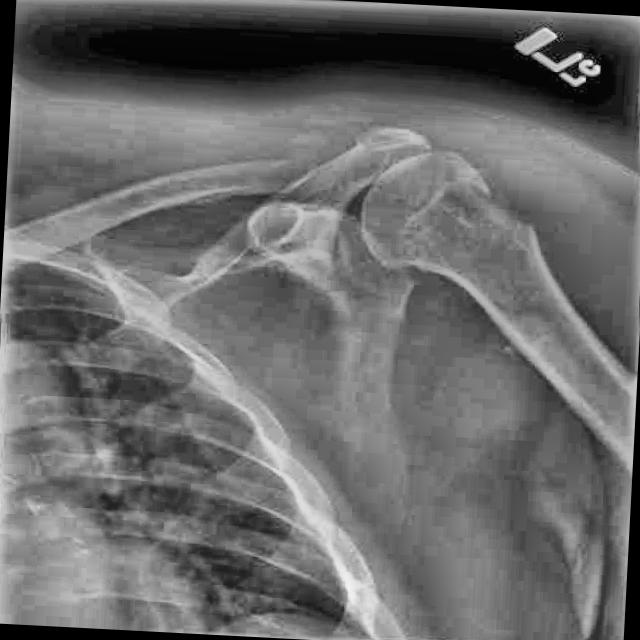shoulder fracture: (392, 154, 563, 311)
